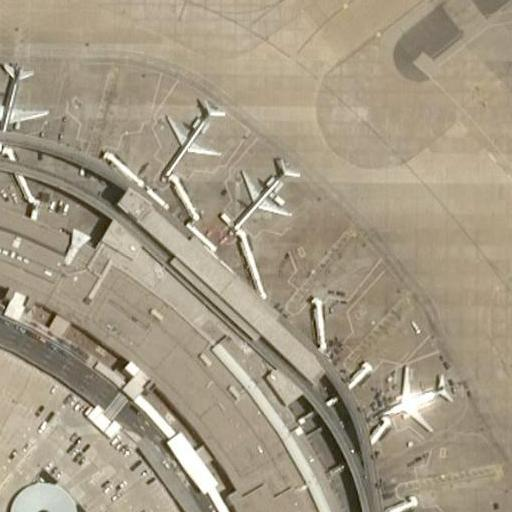Aircraft: (149, 87, 226, 184), (224, 150, 309, 237), (373, 350, 455, 440), (0, 48, 54, 148)
